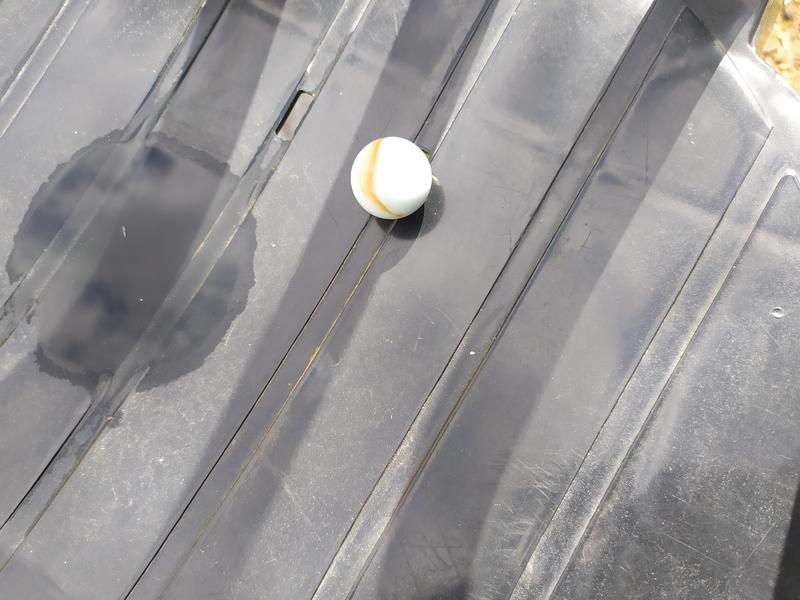Warning: (347, 134, 436, 222)
